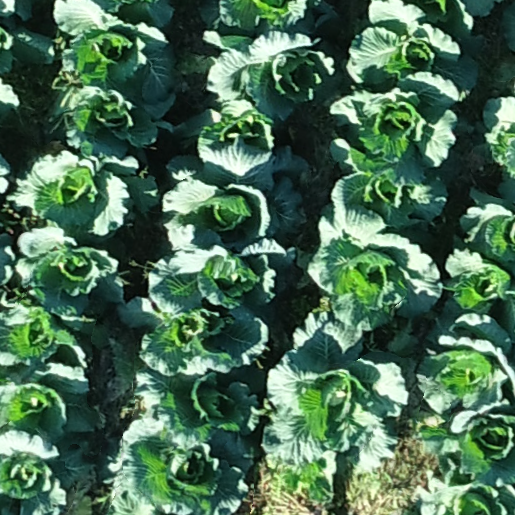Cabbage: (260, 311, 413, 473), (117, 257, 268, 377), (5, 150, 159, 263), (307, 204, 442, 330), (162, 138, 311, 251), (52, 0, 178, 120), (104, 420, 259, 515), (328, 72, 458, 185), (345, 0, 485, 101), (203, 30, 344, 125), (136, 352, 266, 449), (151, 239, 285, 327), (329, 137, 449, 233), (15, 225, 124, 330), (57, 87, 173, 176), (415, 312, 515, 415), (419, 384, 515, 484), (0, 363, 99, 449), (1, 298, 94, 382), (0, 432, 91, 515), (401, 451, 515, 515), (438, 249, 514, 343), (454, 188, 515, 277), (199, 0, 338, 36), (193, 110, 276, 153), (482, 95, 515, 203), (0, 21, 57, 74)
